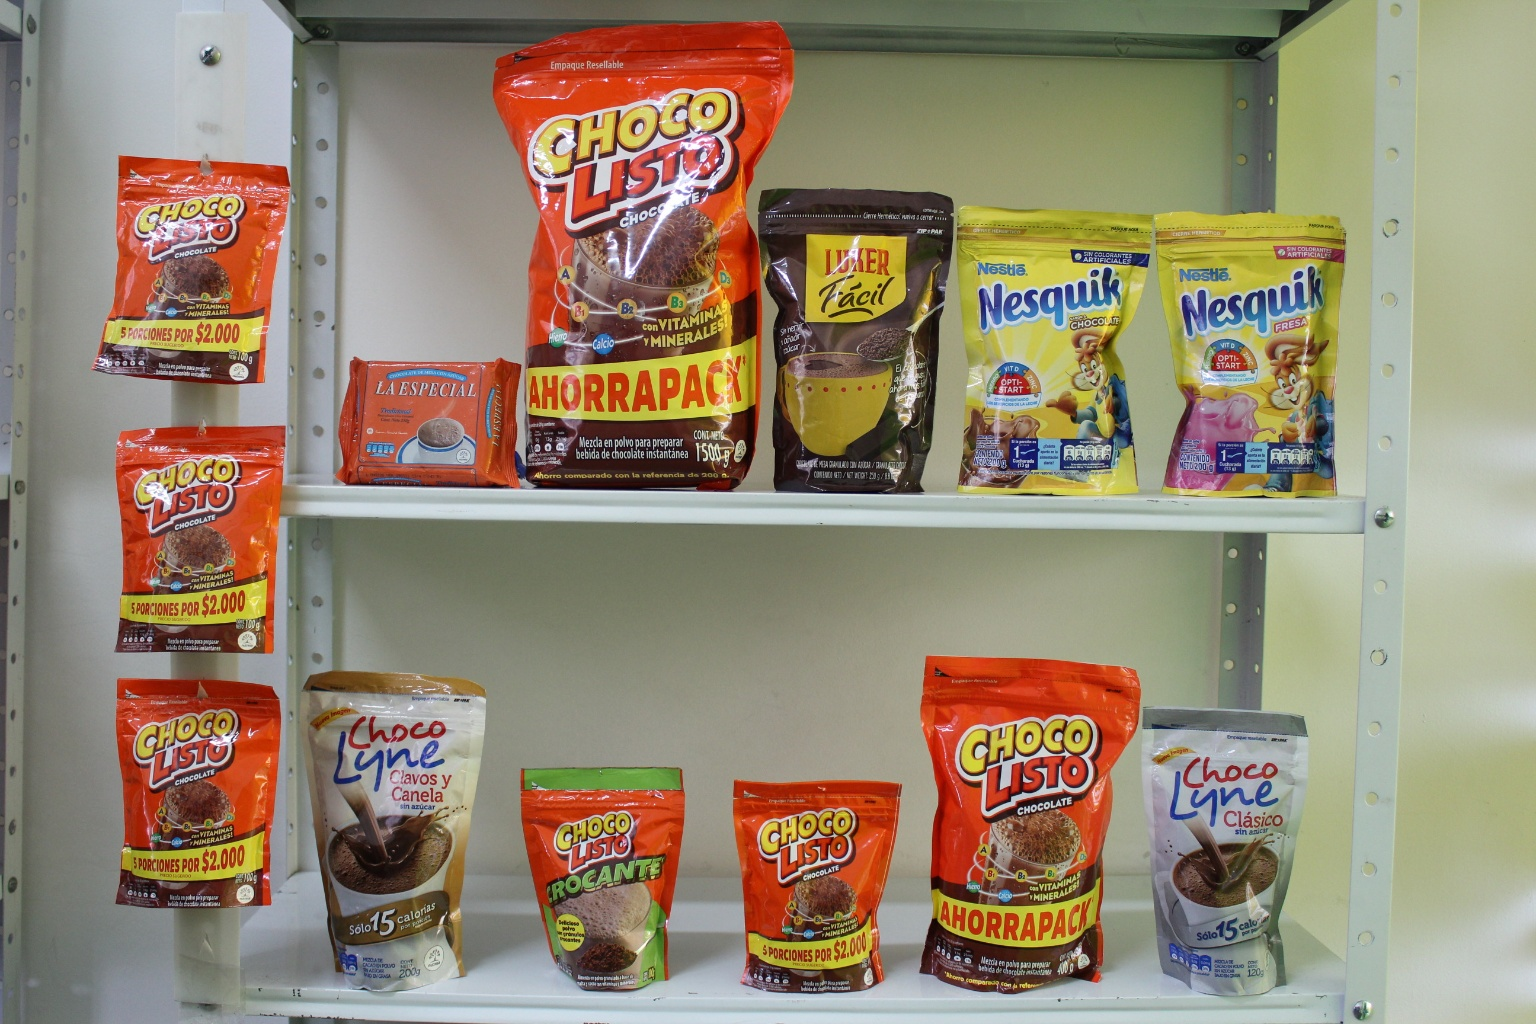COL0170102DYP10000: (513, 757, 699, 995)
COL0170103DYP1,500: (495, 6, 792, 487)
COL0170103DYP10000: (103, 146, 293, 387)
COL0170103DYP40000: (909, 651, 1144, 1006)
COL0170303DYP20000: (960, 199, 1157, 495)
COL0170305DYP20000: (1159, 210, 1357, 496)
